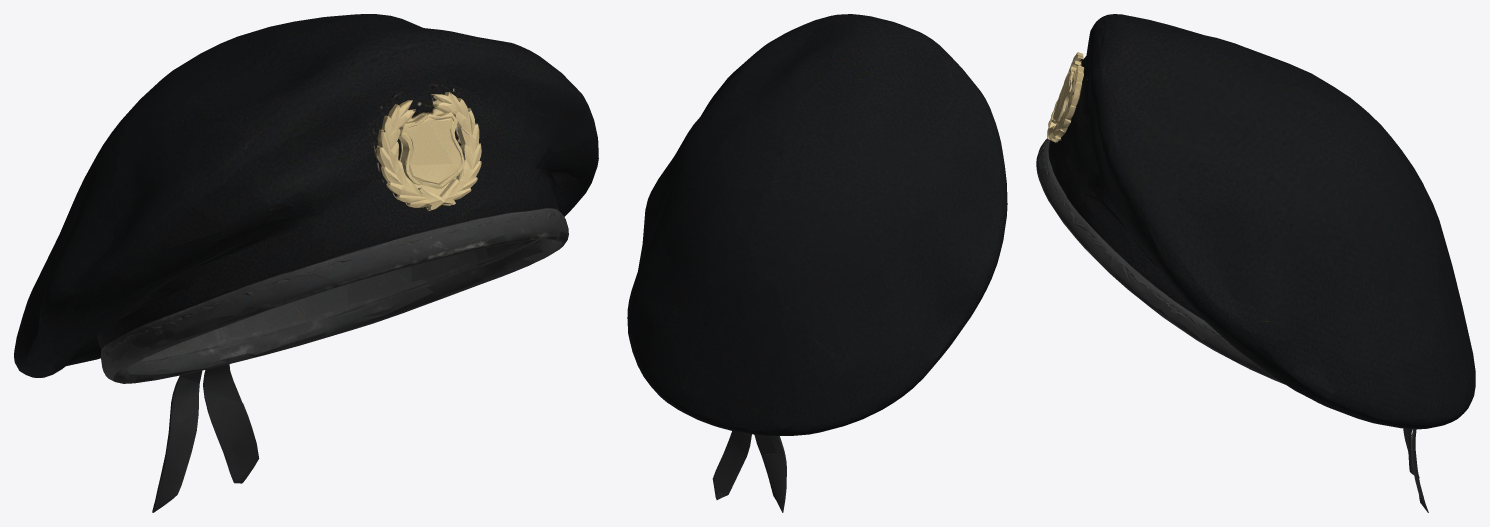
File: boina-pm.glb
The picture shows the model from 3 angles, left to right: view 1: azimuth 30°, elevation 25°; view 2: azimuth 150°, elevation 25°; view 3: azimuth 270°, elevation 25°; orthographic projection. The views are drawn at different scales.
Visible parts, largest first — view 1: output_unwrapped; view 2: output_unwrapped; view 3: output_unwrapped.
Part boxes in pixels (box(x1,y1,x2,y2)): output_unwrapped: box(14, 14, 598, 512); output_unwrapped: box(627, 14, 1007, 512); output_unwrapped: box(1036, 14, 1475, 512).
Size of the model in its own units: 1.71 by 1.9 by 1.62.
1 material, 1 textured.
